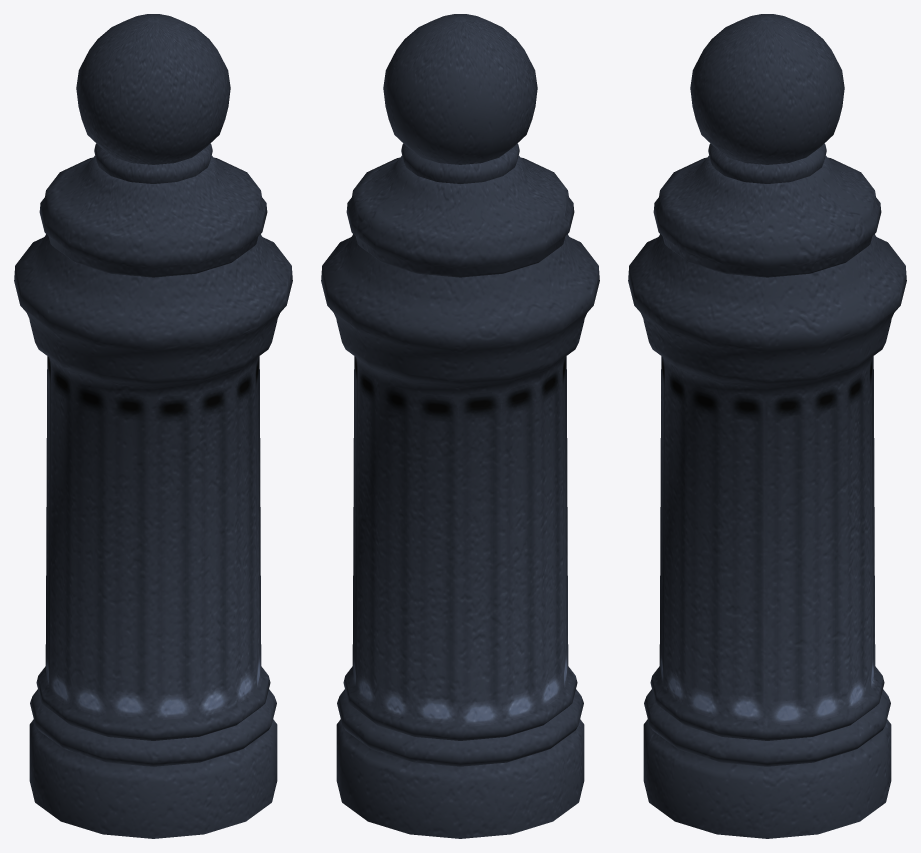
The model's file is Small-Post-FBX.fbx.
3 renders of one model, left to right at view 1: azimuth 30°, elevation 25°; view 2: azimuth 150°, elevation 25°; view 3: azimuth 270°, elevation 25°, orthographic.
Parts seen in each view (by area): view 1: Small_Post; view 2: Small_Post; view 3: Small_Post.
Part boxes in pixels (bbox=[...]): Small_Post: bbox=[14, 14, 292, 838]; Small_Post: bbox=[321, 14, 599, 838]; Small_Post: bbox=[628, 14, 906, 838].
Size of the model in its own units: 32.74 by 100 by 32.92.
